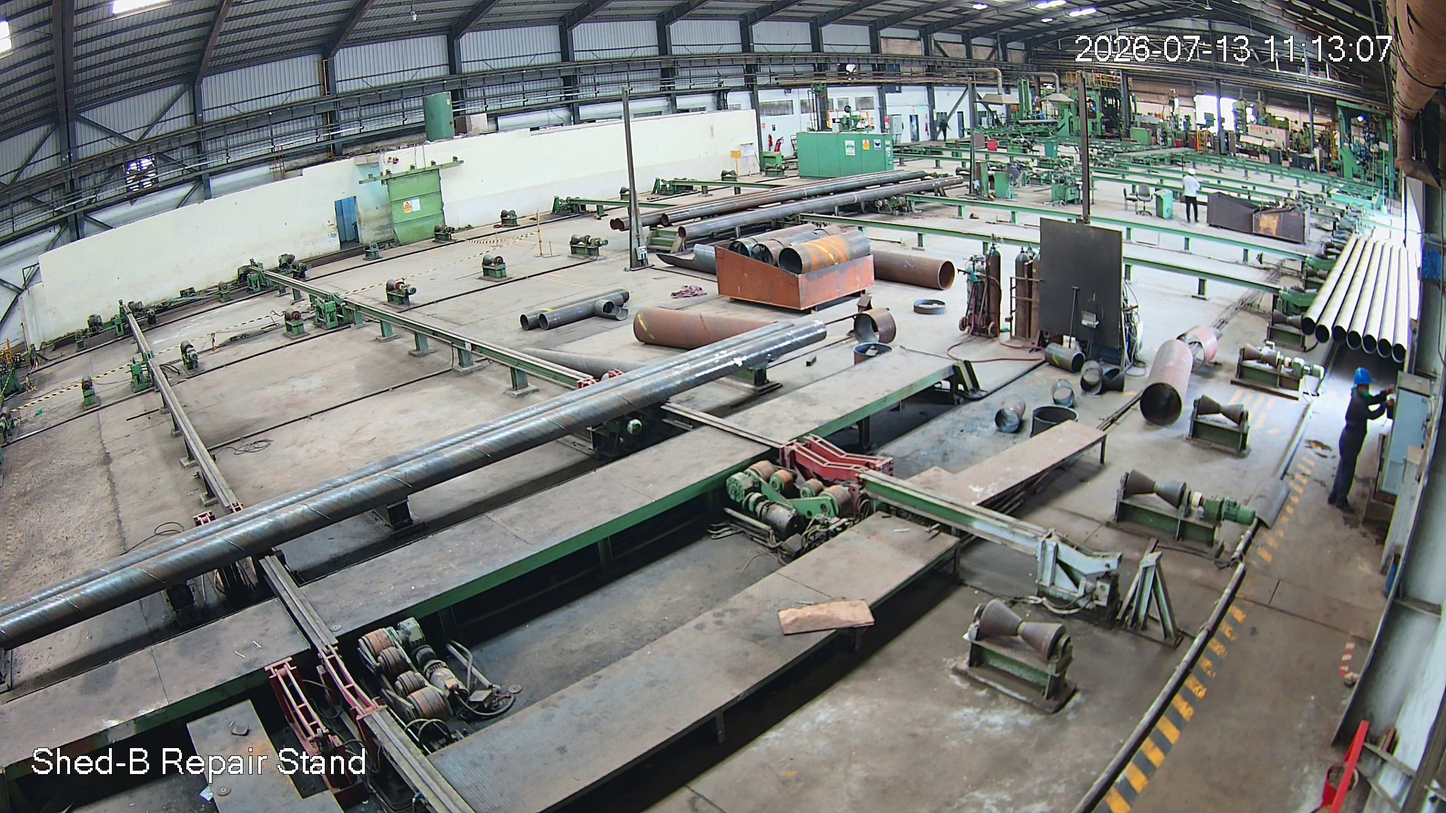Helmet: (1351, 364, 1373, 400)
Person: (1328, 368, 1384, 512)
